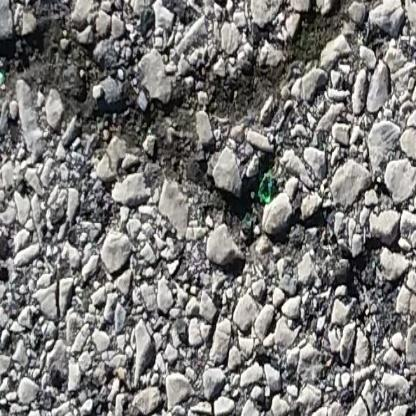Cracks: (0, 0, 402, 232)
